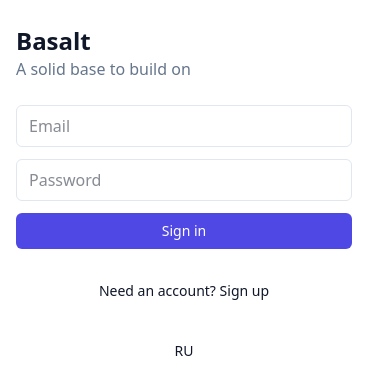
it: LoginScreen › announces submission errors via role="alert"
Type "pavel@example.com" into the field labelled "Email" at (184, 126), box top-left (16, 105), bottom-right (352, 147)
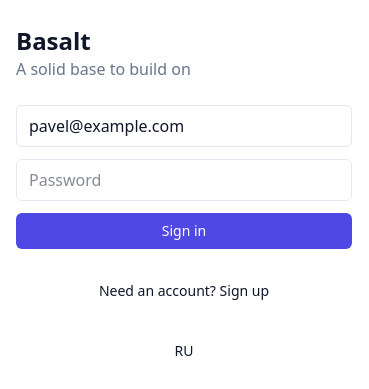
Type "secret-123" into the password field labelled "Password" at (184, 180), box top-left (16, 159), bottom-right (352, 201)
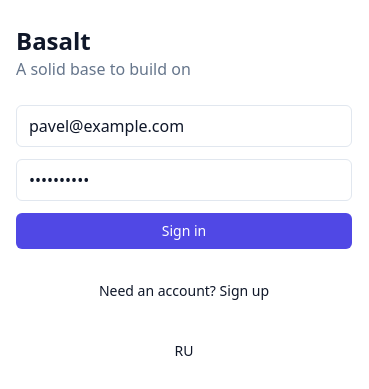
Click the button "Sign in" at (184, 231), box top-left (16, 213), bottom-right (352, 249)
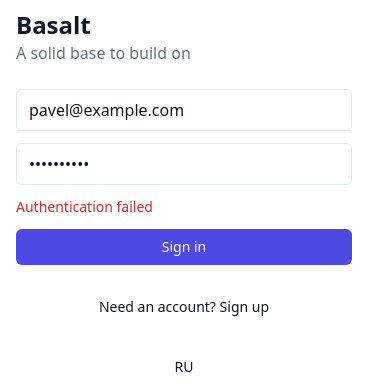
Expected: the message "Authentication failed" is shown, top-left (16, 197), bottom-right (153, 216)
